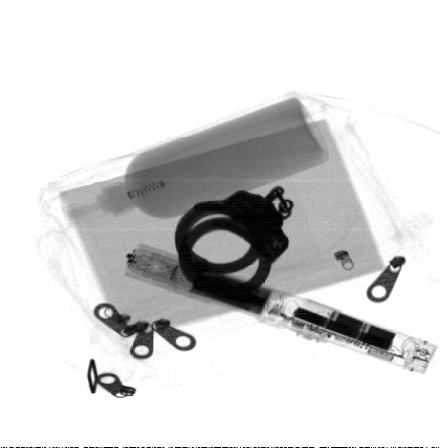Baton: (123, 241, 439, 377)
HandCuffs: (173, 183, 296, 298)
